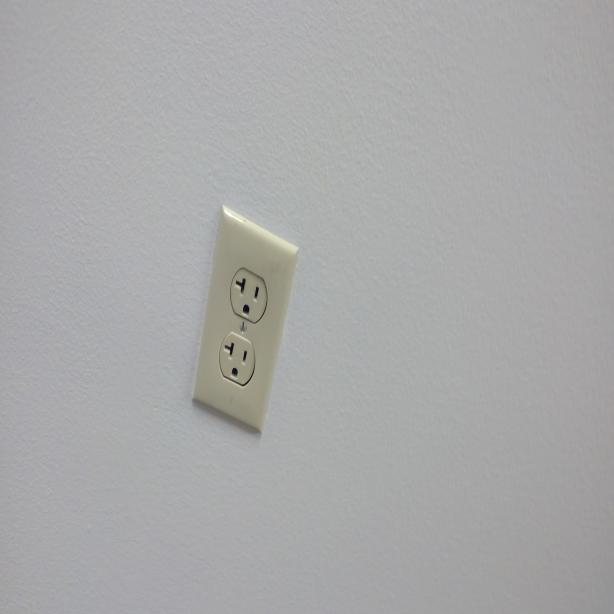typeb: (228, 264, 268, 324), (219, 333, 257, 388)
